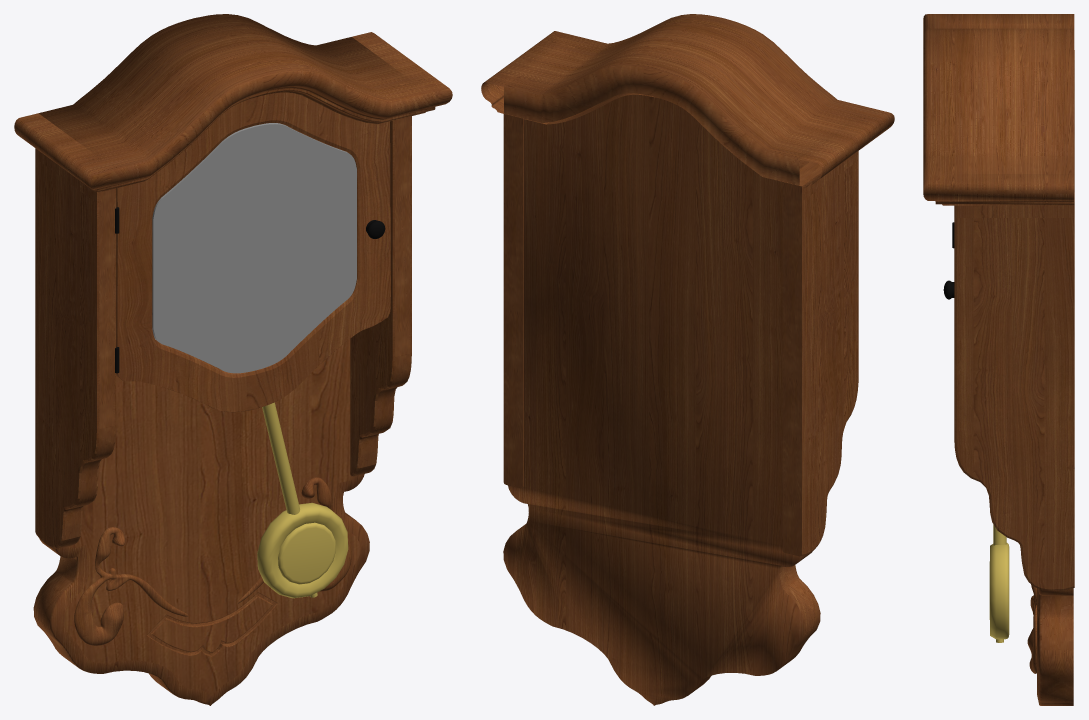
The model's file is Clock 5.FBX.
3 views of the same model, side by side, from view 1: azimuth 30°, elevation 25°; view 2: azimuth 150°, elevation 25°; view 3: azimuth 270°, elevation 25° (orthographic). The views are drawn at different scales.
Visible parts, largest first — view 1: Clock 5, pendulum clock; view 2: Clock 5; view 3: Clock 5, pendulum clock.
Part boxes in pixels (bbox=[...]): Clock 5: bbox=[14, 14, 452, 705]; pendulum clock: bbox=[257, 402, 348, 598]; Clock 5: bbox=[481, 14, 894, 705]; Clock 5: bbox=[923, 14, 1074, 705]; pendulum clock: bbox=[989, 524, 1009, 642].
Size of the model in its own units: 35.61 by 63.5 by 13.13.
